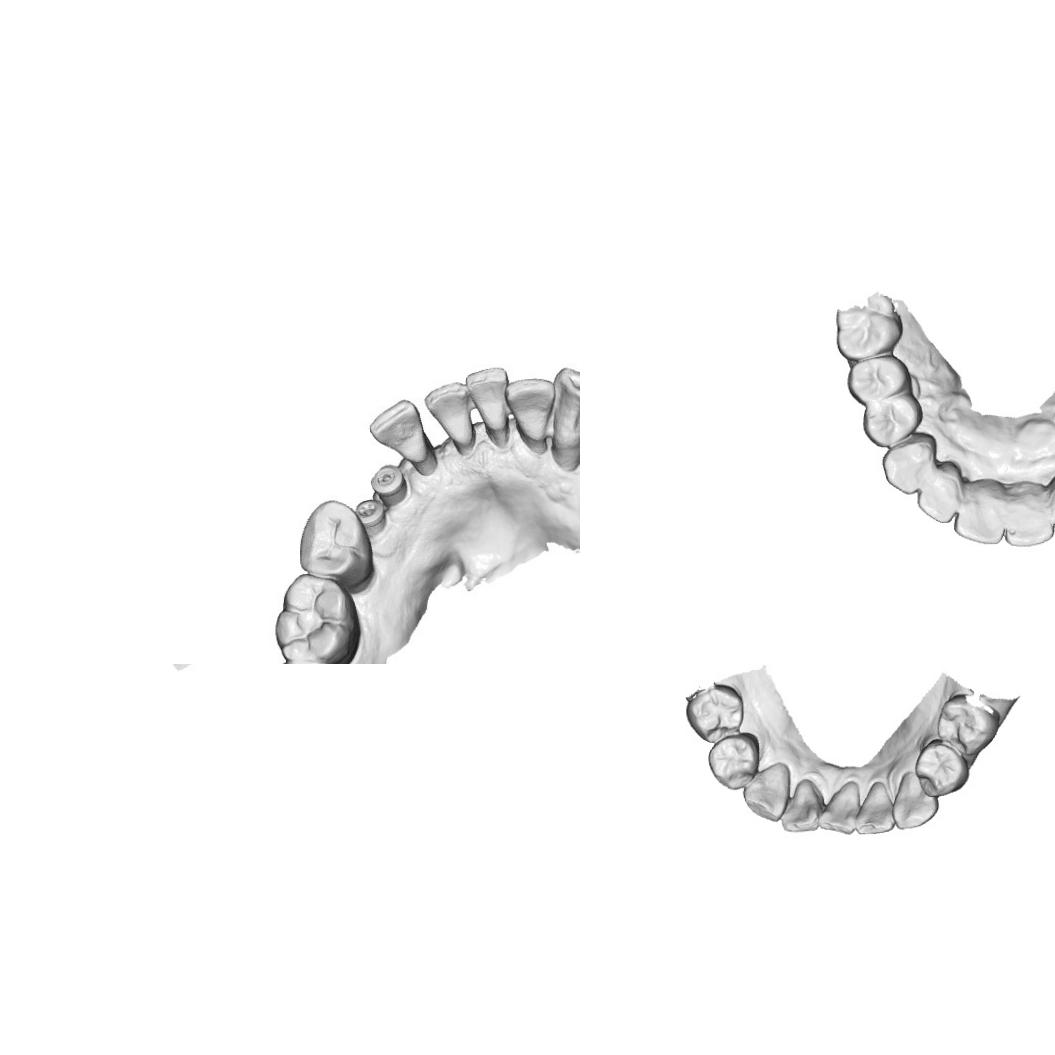canine: (550, 359, 580, 465), (880, 438, 933, 497), (742, 761, 792, 823), (890, 770, 939, 830)
implant: (369, 458, 409, 508), (356, 495, 386, 536)
incisor: (365, 398, 438, 472), (950, 480, 1007, 547), (420, 378, 474, 448), (1002, 482, 1055, 548), (466, 362, 510, 440), (505, 377, 550, 451), (914, 468, 960, 527), (816, 779, 860, 835), (853, 780, 895, 836), (780, 779, 821, 833)
molar: (264, 571, 367, 664), (832, 306, 902, 360)
premolar: (296, 499, 374, 591), (935, 692, 1001, 755), (685, 682, 744, 744), (846, 352, 912, 405), (860, 395, 925, 448), (706, 731, 762, 791), (914, 737, 970, 796)
